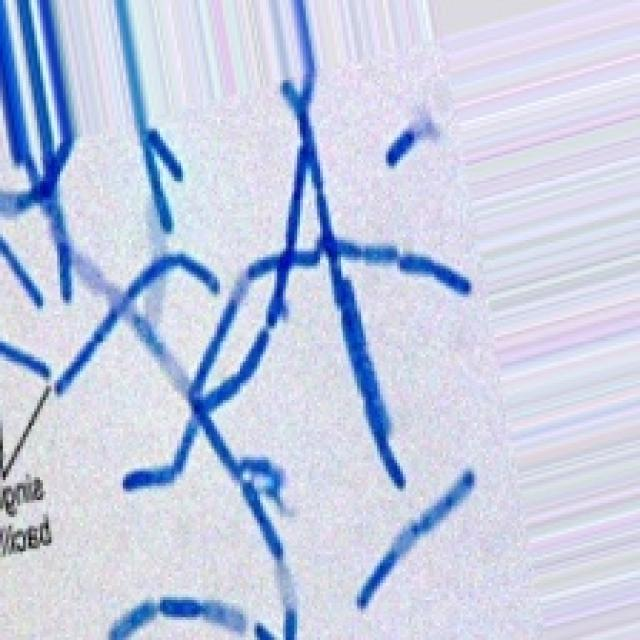Rod_bacteria: (0, 0, 540, 637)
